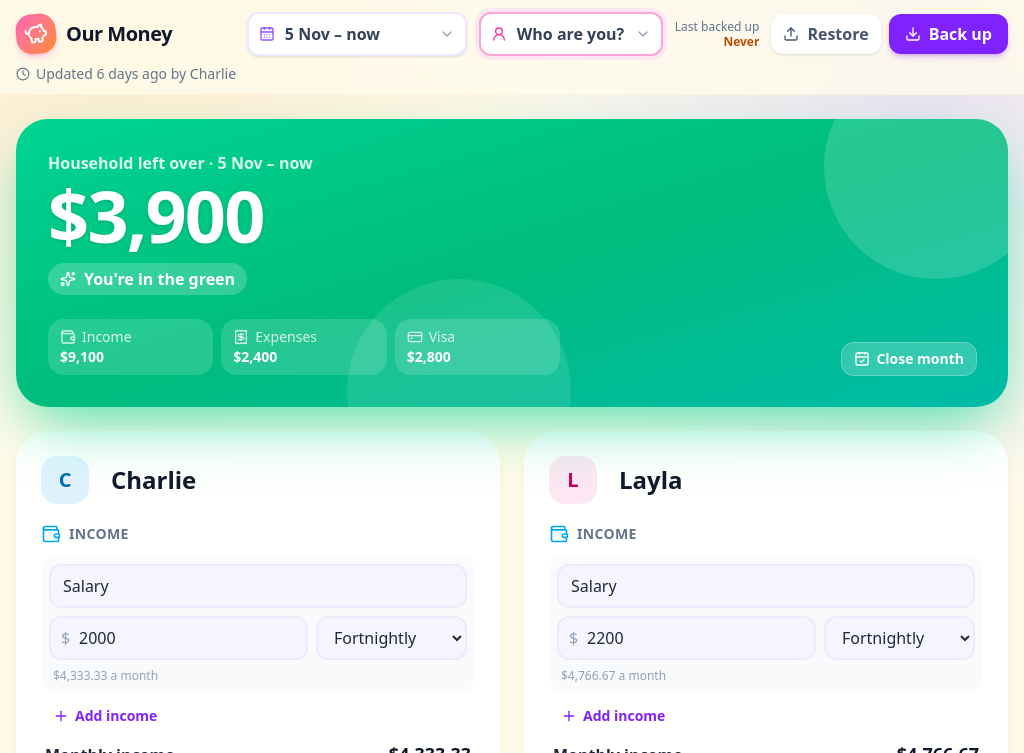
Test: past periods › edits a past period's snapshot without touching the live values
The image size is (1024, 753).
Select "5 Oct – 5 Nov 2026" in the 1st dropdown named "Period" at [357, 34], box x1=247 y1=12 x2=467 y2=56
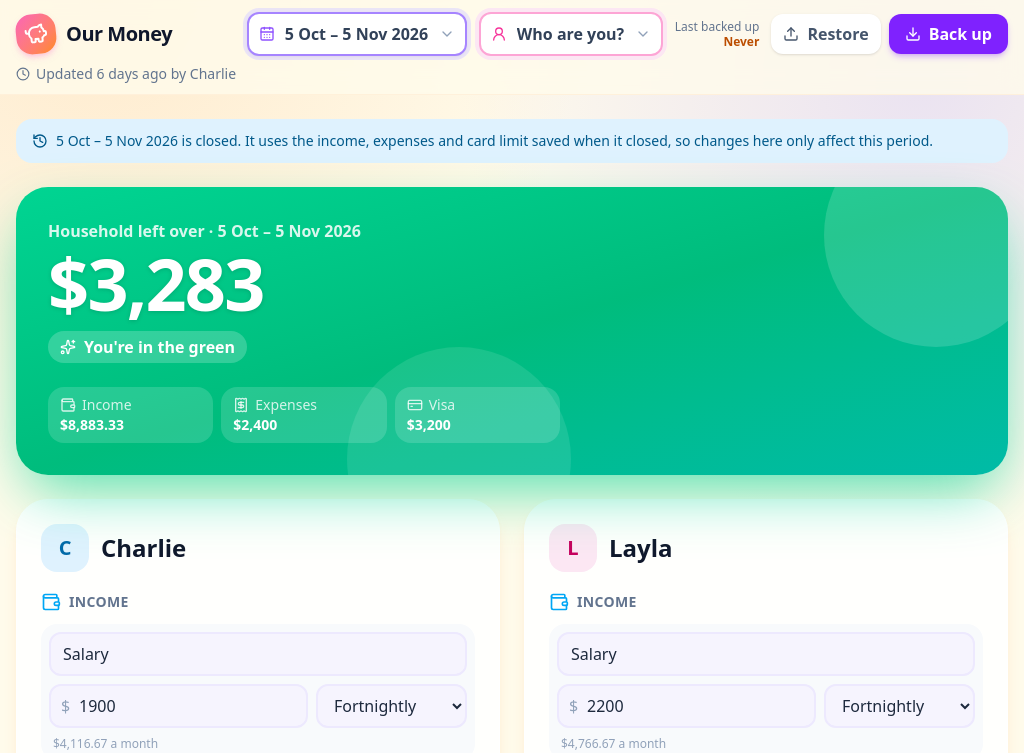
Replace the text in the 3rd field named "Amount" with "1950" at [178, 706], box x1=49 y1=684 x2=308 y2=728
(page scrolled)
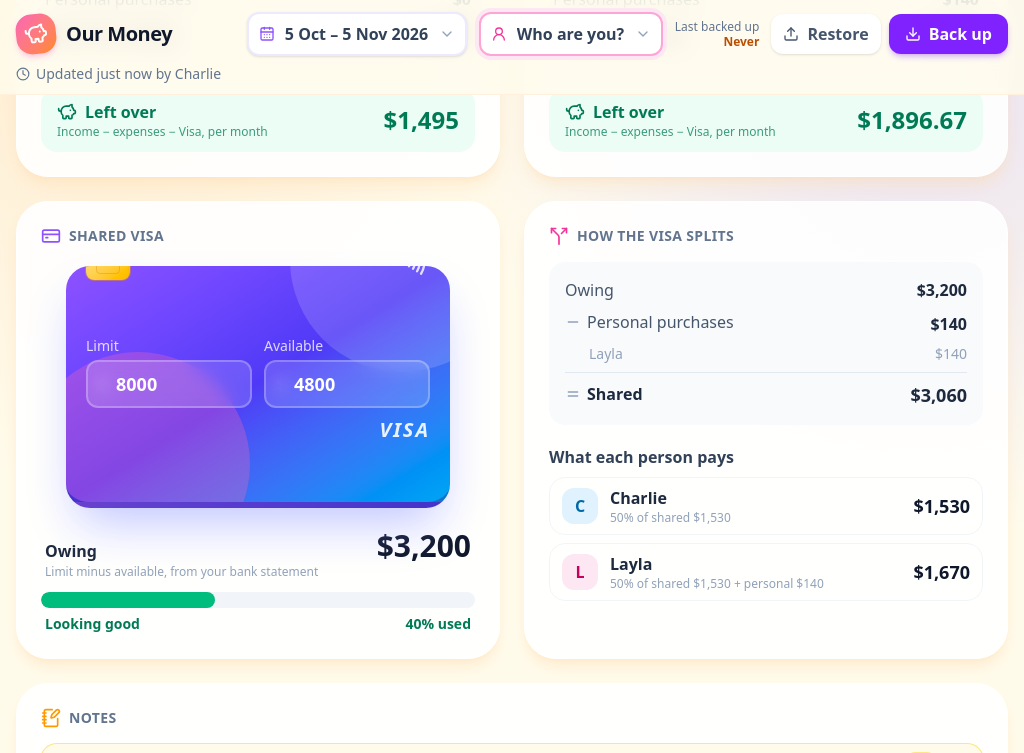
Replace the text in the field labelled "Limit" with "9000" at [169, 384], box x1=86 y1=360 x2=252 y2=408
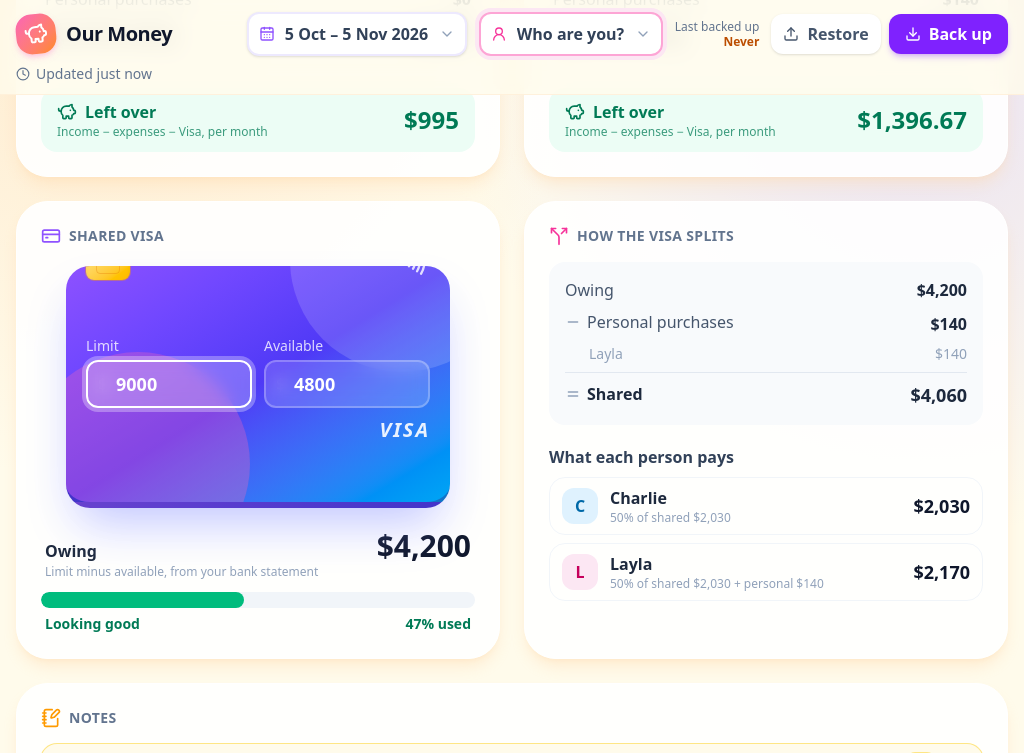
Result: the text "$4,200" below "Shared Visa" is shown at x1=377 y1=525 x2=471 y2=566
Select "5 Nov – now" in the 1st dropdown named "Period" at [357, 34], box x1=247 y1=12 x2=467 y2=56
(page scrolled)
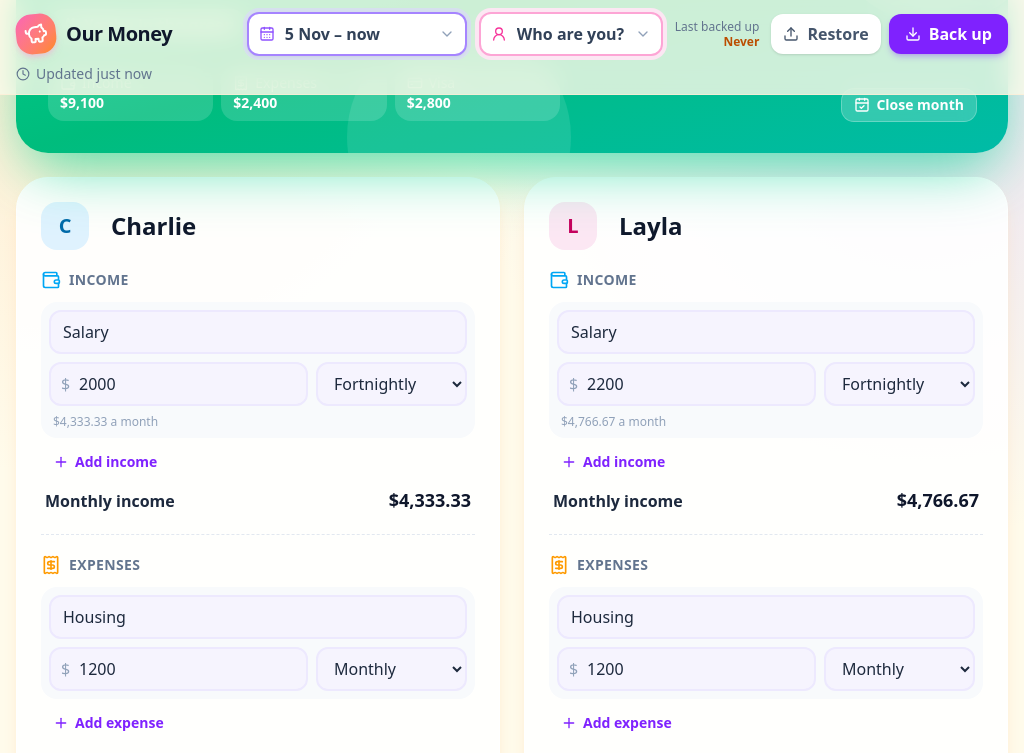
Result: the 5th field named "Amount" holds "2000" at x1=49 y1=362 x2=308 y2=406
